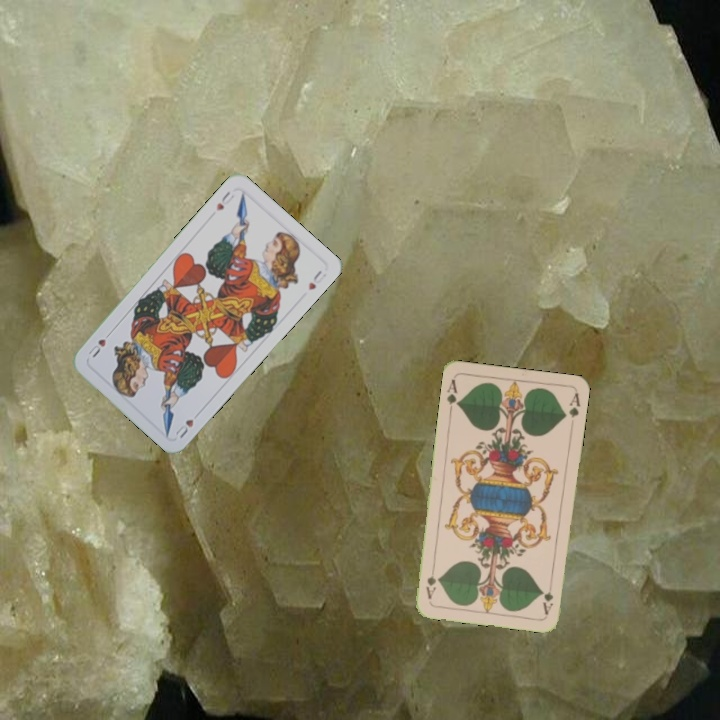GA: (442, 375, 462, 415), (539, 588, 556, 617)
HU: (212, 187, 237, 214), (171, 415, 196, 441)
